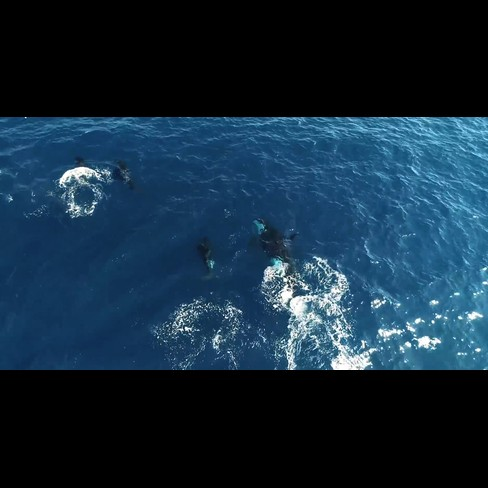orca: (245, 209, 315, 314), (190, 231, 234, 294), (107, 151, 142, 200), (65, 146, 95, 195)
